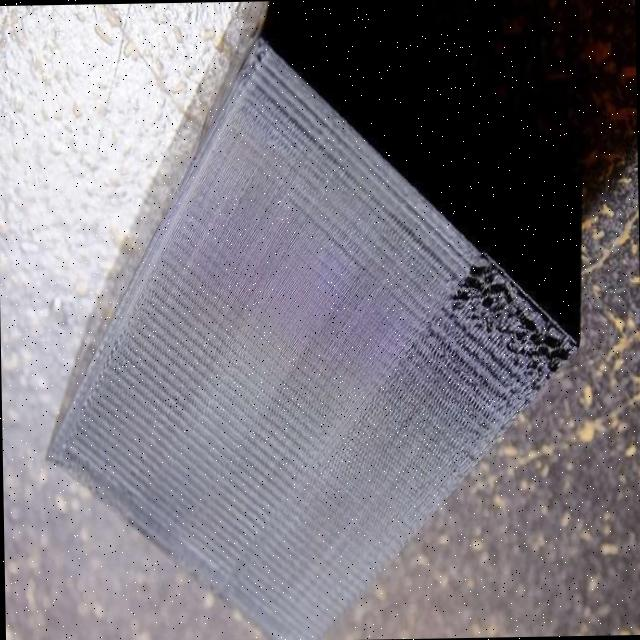cracks: (442, 248, 578, 394)
